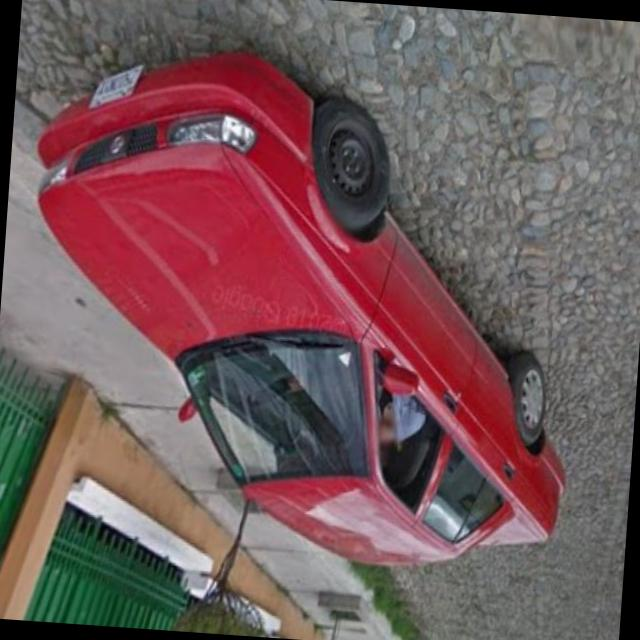car: (11, 52, 562, 574)
